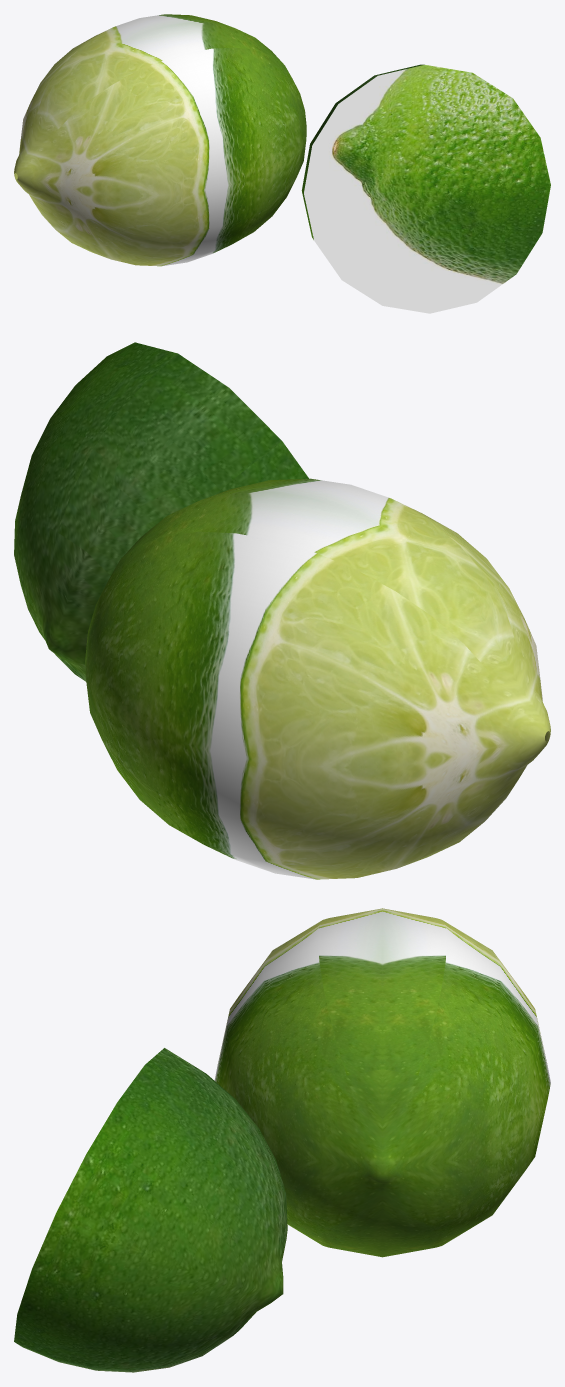
The model's file is lime.fbx.
The picture shows the model from 3 angles, top to bottom: view 1: azimuth 30°, elevation 25°; view 2: azimuth 150°, elevation 25°; view 3: azimuth 270°, elevation 25°; orthographic projection. The views are drawn at different scales.
Parts seen in each view (by area): view 1: Lime, Half Lime. skin, Half Lime; view 2: Lime, Half Lime; view 3: Lime, Half Lime.
Part boxes in pixels (x1=…): Lime: x1=14, y1=14, x2=306, y2=266; Half Lime. skin: x1=304, y1=65, x2=550, y2=313; Half Lime: x1=301, y1=64, x2=424, y2=239; Lime: x1=85, y1=478, x2=550, y2=879; Half Lime: x1=14, y1=342, x2=308, y2=681; Lime: x1=214, y1=908, x2=550, y2=1257; Half Lime: x1=14, y1=1048, x2=287, y2=1372.
Bounding box in the file's own units: 0.7642 × 0.4203 × 0.6377.
